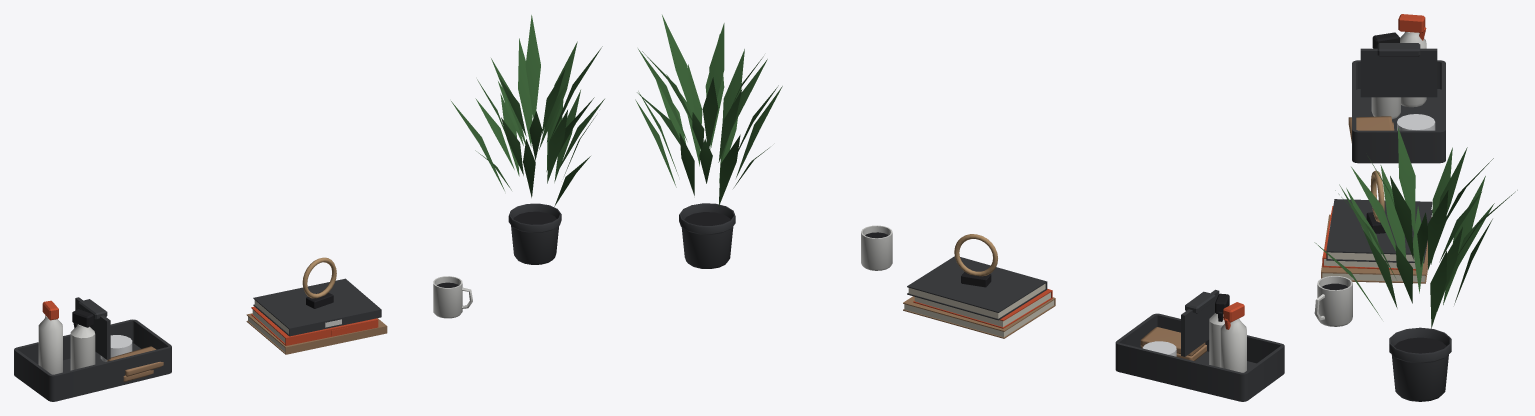
Rendered from decor_b_vignette_garage.gltf.
The picture shows the model from 3 angles, left to right: view 1: azimuth 30°, elevation 25°; view 2: azimuth 150°, elevation 25°; view 3: azimuth 270°, elevation 25°; orthographic projection. The views are drawn at different scales.
Parts seen in each view (by area): view 1: DecorBVignetteGarage_Graphite_NoCollide, DecorBVignetteGarage_Leaf_NoCollide, DecorBVignetteGarage_Book03_Graphite_NoCollide, DecorBVignetteGarage_SprayBottle01_WhiteLacquer_NoCollide, DecorBVignetteGarage_Mug01_WhiteLacquer_NoCollide, DecorBVignetteGarage_Book01_GarageLeather_NoCollide, DecorBVignetteGarage_Book02_Accent_NoCollide, DecorBVignetteGarage_SprayBottle02_WhiteLacquer_NoCollide, DecorBVignetteGarage_GarageLeather_NoCollide, DecorBVignetteGarage_Ornament01_Bronze_NoCollide; view 2: DecorBVignetteGarage_Graphite_NoCollide, DecorBVignetteGarage_Leaf_NoCollide, DecorBVignetteGarage_Book03_Graphite_NoCollide, DecorBVignetteGarage_Mug01_WhiteLacquer_NoCollide, DecorBVignetteGarage_SprayBottle01_WhiteLacquer_NoCollide, DecorBVignetteGarage_Book01_GarageLeather_NoCollide, DecorBVignetteGarage_Book01_Paper_NoCollide, DecorBVignetteGarage_Book03_Paper_NoCollide, DecorBVignetteGarage_Book02_Paper_NoCollide, DecorBVignetteGarage_GarageLeather_NoCollide, DecorBVignetteGarage_Ornament01_Bronze_NoCollide, DecorBVignetteGarage_SprayBottle02_WhiteLacquer_NoCollide (+1 smaller); view 3: DecorBVignetteGarage_Graphite_NoCollide, DecorBVignetteGarage_Leaf_NoCollide, DecorBVignetteGarage_Book03_Graphite_NoCollide, DecorBVignetteGarage_Mug01_WhiteLacquer_NoCollide, DecorBVignetteGarage_Book01_GarageLeather_NoCollide, DecorBVignetteGarage_GraphiteDark_NoCollide, DecorBVignetteGarage_GarageLeather_NoCollide, DecorBVignetteGarage_SprayBottle02_WhiteLacquer_NoCollide, DecorBVignetteGarage_Aluminium_NoCollide, DecorBVignetteGarage_SprayBottle01_Accent_NoCollide, DecorBVignetteGarage_SprayBottle01_WhiteLacquer_NoCollide, DecorBVignetteGarage_Book03_Paper_NoCollide (+6 smaller).
Part boxes in pixels (bbox=[...]): DecorBVignetteGarage_Graphite_NoCollide: bbox=[14, 203, 561, 401]; DecorBVignetteGarage_Leaf_NoCollide: bbox=[451, 15, 604, 206]; DecorBVignetteGarage_Book03_Graphite_NoCollide: bbox=[253, 278, 381, 336]; DecorBVignetteGarage_SprayBottle01_WhiteLacquer_NoCollide: bbox=[38, 316, 62, 374]; DecorBVignetteGarage_Mug01_WhiteLacquer_NoCollide: bbox=[433, 276, 472, 318]; DecorBVignetteGarage_Book01_GarageLeather_NoCollide: bbox=[246, 313, 387, 354]; DecorBVignetteGarage_Book02_Accent_NoCollide: bbox=[251, 306, 378, 345]; DecorBVignetteGarage_SprayBottle02_WhiteLacquer_NoCollide: bbox=[70, 324, 95, 370]; DecorBVignetteGarage_GarageLeather_NoCollide: bbox=[107, 346, 163, 381]; DecorBVignetteGarage_Ornament01_Bronze_NoCollide: bbox=[302, 257, 336, 298]; DecorBVignetteGarage_Graphite_NoCollide: bbox=[679, 203, 1284, 401]; DecorBVignetteGarage_Leaf_NoCollide: bbox=[635, 15, 782, 206]; DecorBVignetteGarage_Book03_Graphite_NoCollide: bbox=[907, 256, 1047, 320]; DecorBVignetteGarage_Mug01_WhiteLacquer_NoCollide: bbox=[861, 225, 892, 270]; DecorBVignetteGarage_SprayBottle01_WhiteLacquer_NoCollide: bbox=[1220, 318, 1246, 372]; DecorBVignetteGarage_Book01_GarageLeather_NoCollide: bbox=[903, 296, 1055, 338]; DecorBVignetteGarage_Book01_Paper_NoCollide: bbox=[904, 300, 1054, 337]; DecorBVignetteGarage_Book03_Paper_NoCollide: bbox=[908, 283, 1045, 318]; DecorBVignetteGarage_Book02_Paper_NoCollide: bbox=[914, 292, 1050, 326]; DecorBVignetteGarage_GarageLeather_NoCollide: bbox=[1140, 327, 1206, 360]; DecorBVignetteGarage_Ornament01_Bronze_NoCollide: bbox=[954, 234, 997, 276]; DecorBVignetteGarage_SprayBottle02_WhiteLacquer_NoCollide: bbox=[1209, 313, 1224, 367]; DecorBVignetteGarage_Graphite_NoCollide: bbox=[1352, 43, 1451, 401]; DecorBVignetteGarage_Leaf_NoCollide: bbox=[1314, 127, 1517, 328]; DecorBVignetteGarage_Book03_Graphite_NoCollide: bbox=[1326, 199, 1432, 263]; DecorBVignetteGarage_Mug01_WhiteLacquer_NoCollide: bbox=[1314, 276, 1352, 326]; DecorBVignetteGarage_Book01_GarageLeather_NoCollide: bbox=[1321, 214, 1431, 283]; DecorBVignetteGarage_GraphiteDark_NoCollide: bbox=[1394, 337, 1446, 353]; DecorBVignetteGarage_GarageLeather_NoCollide: bbox=[1348, 116, 1394, 142]; DecorBVignetteGarage_SprayBottle02_WhiteLacquer_NoCollide: bbox=[1371, 97, 1400, 119]; DecorBVignetteGarage_Aluminium_NoCollide: bbox=[1397, 114, 1435, 130]; DecorBVignetteGarage_SprayBottle01_Accent_NoCollide: bbox=[1398, 14, 1426, 40]; DecorBVignetteGarage_SprayBottle01_WhiteLacquer_NoCollide: bbox=[1400, 32, 1426, 107]; DecorBVignetteGarage_Book03_Paper_NoCollide: bbox=[1327, 252, 1414, 261].
Size of the model in its own units: 1.87 by 0.6613 by 0.4859.
